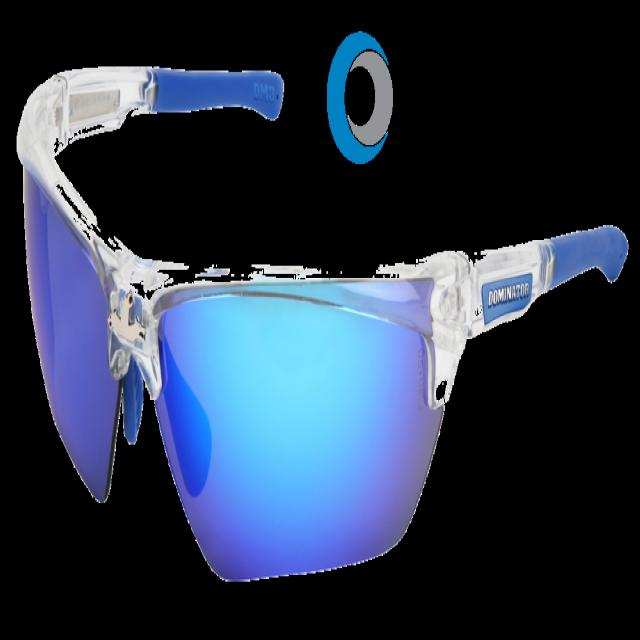goggles: (19, 45, 595, 554)
